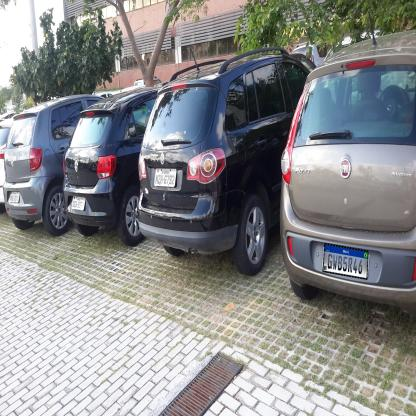PlacaM: (322, 243, 369, 280)
